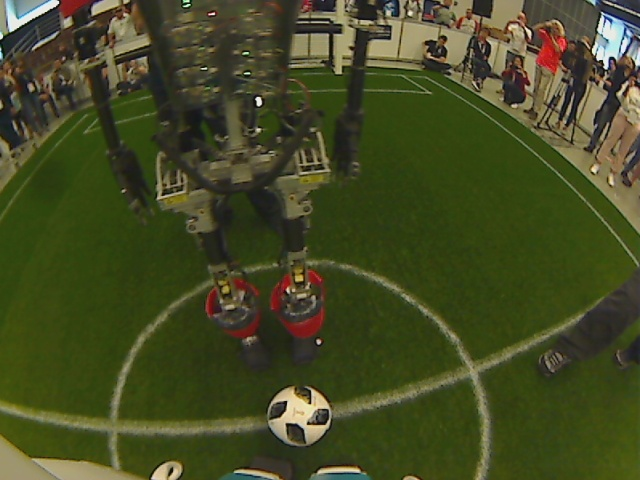ball: (264, 381, 337, 451)
